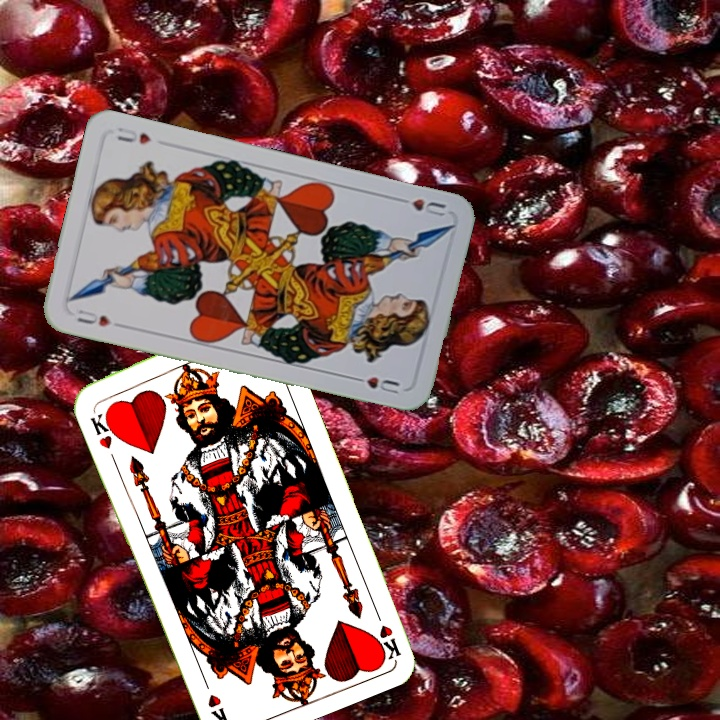HK: (369, 603, 403, 661), (86, 406, 121, 452)
HU: (392, 193, 449, 219), (71, 304, 114, 329)
